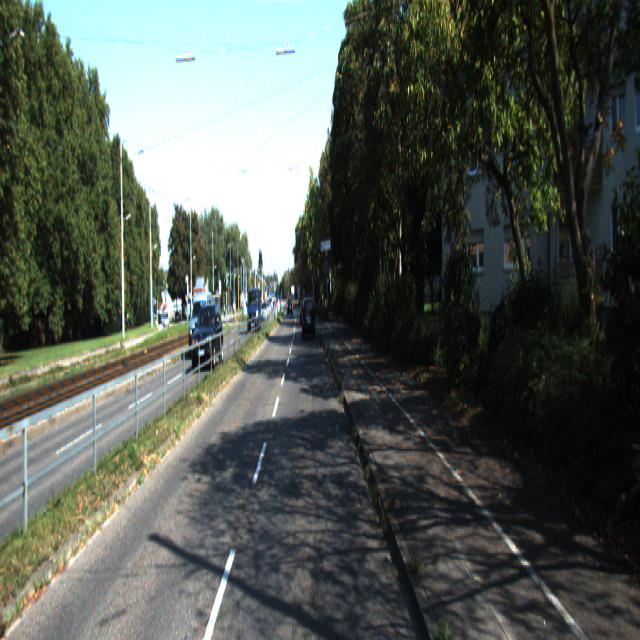Car: (191, 301, 225, 371), (189, 290, 216, 359), (247, 288, 262, 336), (303, 299, 316, 343)
